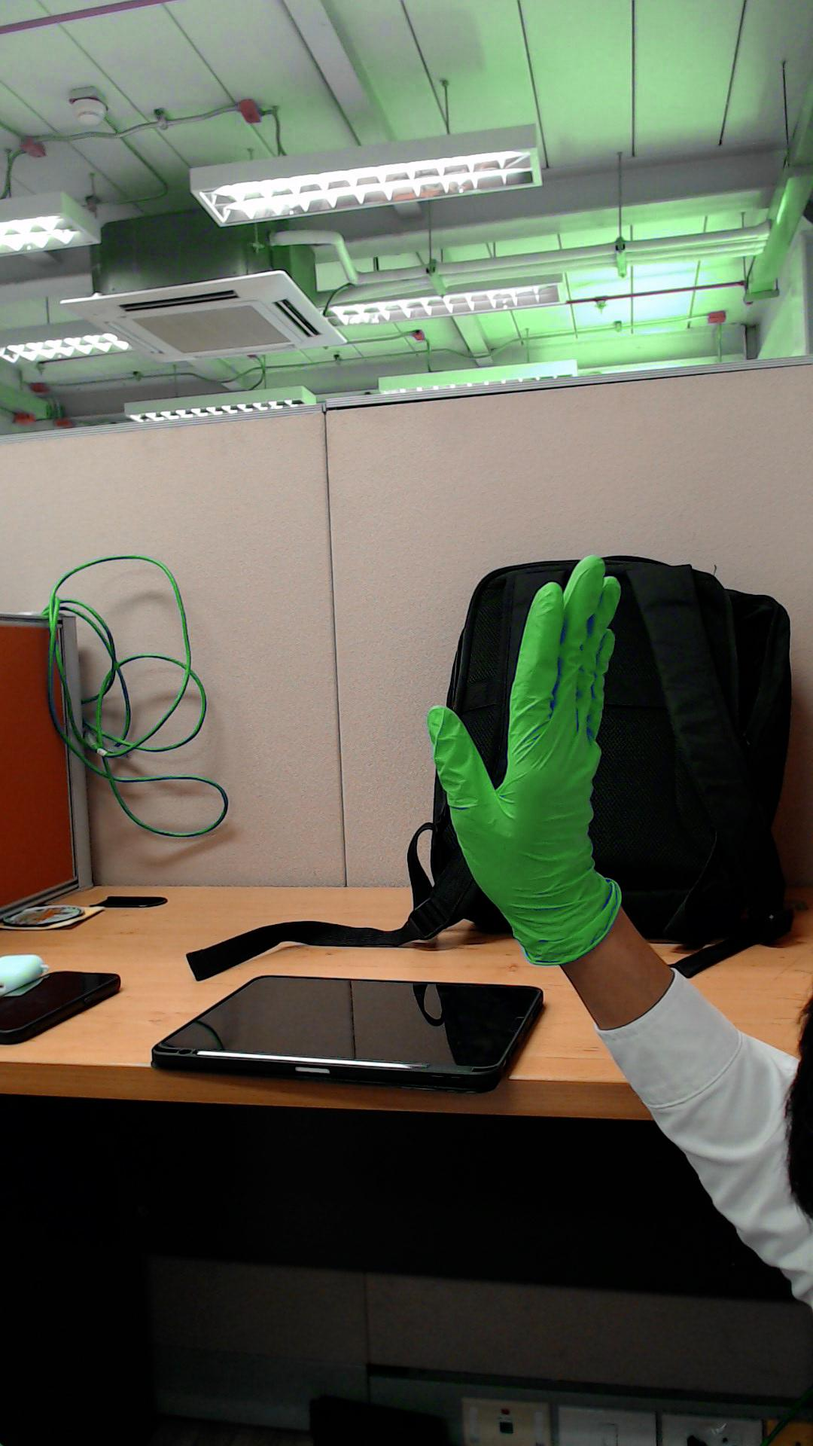gloves: (400, 524, 656, 865)
